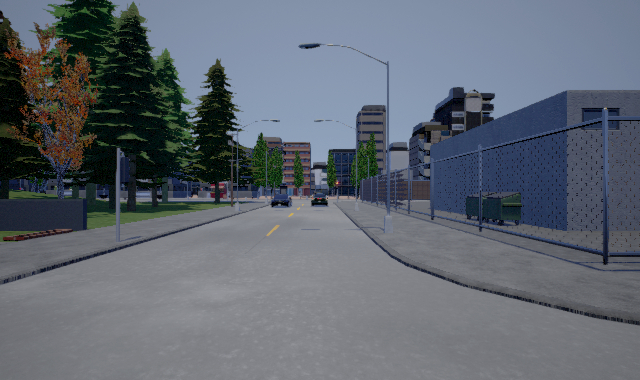traffic_light: (334, 180, 340, 186)
vehicle: (270, 193, 292, 209), (311, 193, 328, 205)
